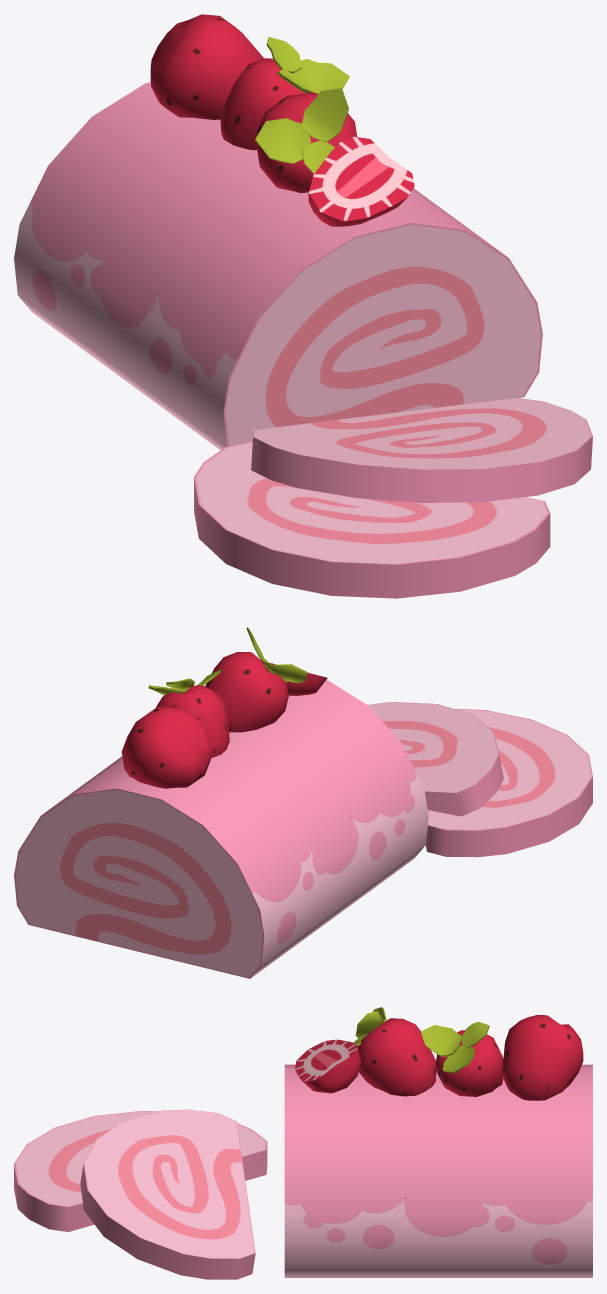
File: m_swissrollV2.fbx
3 views of the same model, one above another, from view 1: azimuth 30°, elevation 25°; view 2: azimuth 150°, elevation 25°; view 3: azimuth 270°, elevation 25° (orthographic). The views are drawn at different scales.
Parts seen in each view (by area): view 1: swiss rollV2; view 2: swiss rollV2; view 3: swiss rollV2.
Part boxes in pixels (bbox=[...]): swiss rollV2: bbox=[14, 14, 592, 598]; swiss rollV2: bbox=[14, 627, 592, 978]; swiss rollV2: bbox=[14, 1007, 592, 1279].
Bounding box in the file's own units: 16.17 × 11.52 × 26.63.
